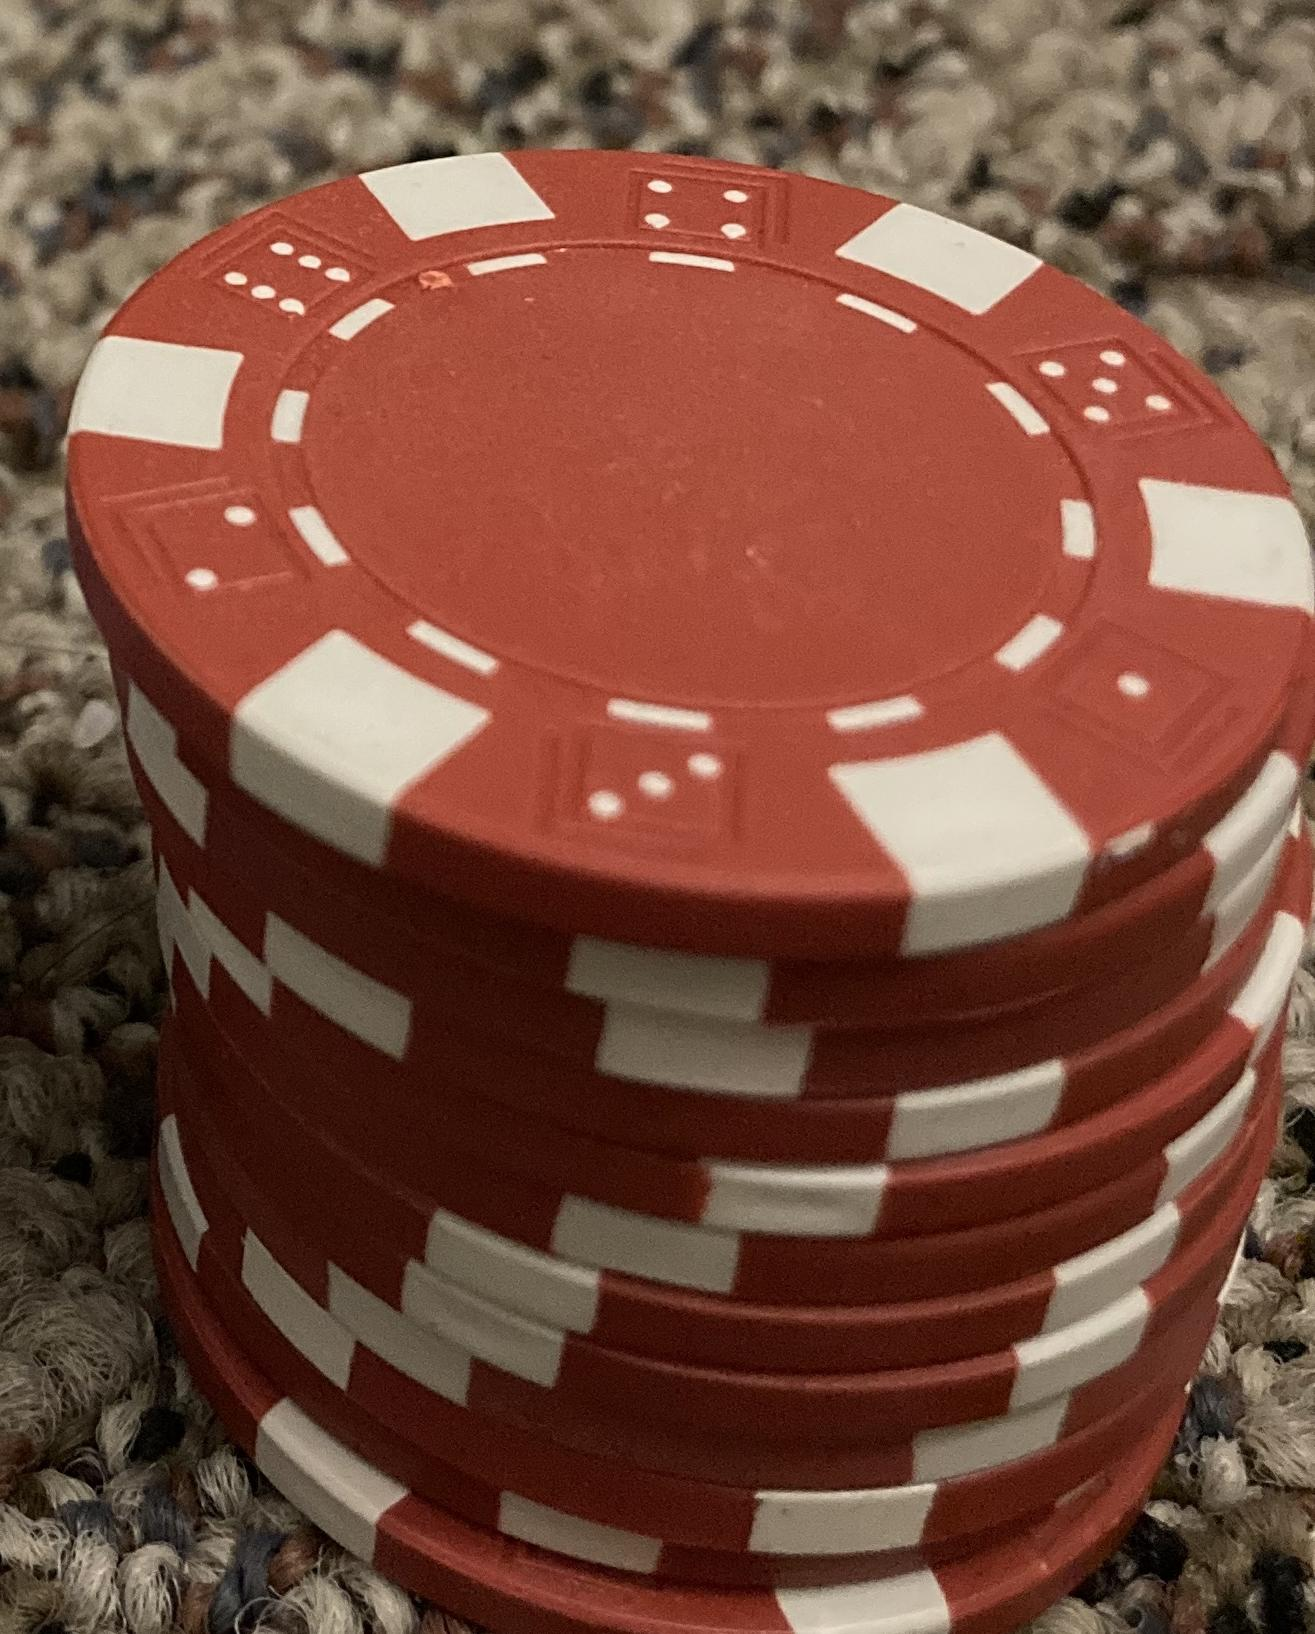Chip: (1, 1, 1315, 1634)
